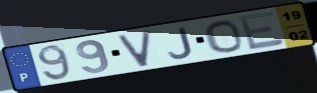9: (35, 44, 73, 81), (74, 39, 112, 75)
E: (236, 9, 287, 52)
J: (167, 26, 195, 60)
O: (202, 19, 246, 54)
V: (116, 29, 153, 69)
